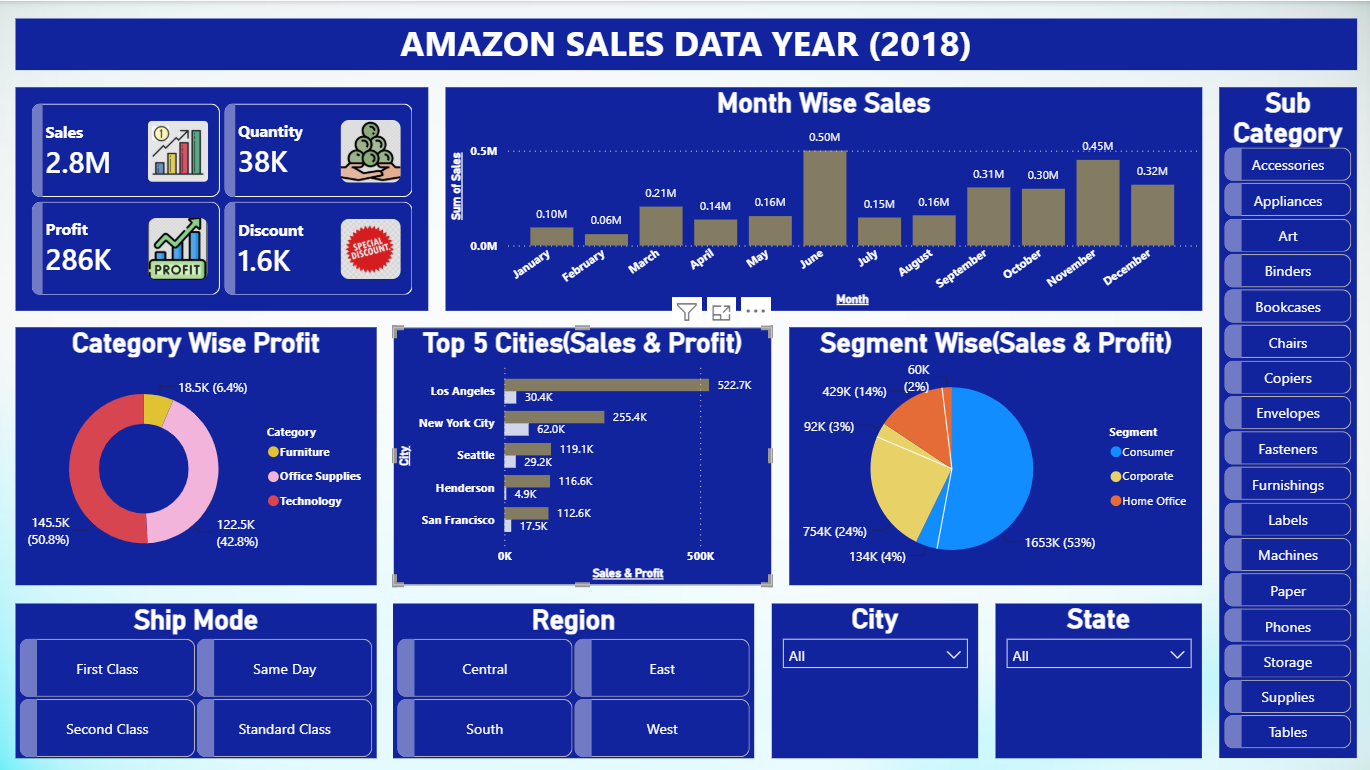

What the dashboard file says about the page in this screenshot:
{"tool":"powerbi","page":{"name":"Page 1","canvas":[1280,720],"ordinal":0},"visuals":[{"type":"textbox","box":[16,16,1248,48],"z":0},{"type":"cardVisual","fields":{"Data":["Sum(Orders.Sales)","Sum(Orders.Quantity)","Sum(Orders.Profit)","Sum(Orders.Discount)"]},"box":[16,80,384,208],"z":1000},{"type":"columnChart","title":" Month Wise Sales","fields":{"Category":["Orders.Order Date.Variation.Date Hierarchy.Month"],"Y":["Sum(Orders.Sales)"]},"box":[416,80,704,208],"z":2000},{"type":"donutChart","title":" Category Wise Profit","fields":{"Series":["Orders.Category"],"Y":["Sum(Orders.Profit)"]},"box":[16,304,336,240],"z":3000},{"type":"clusteredBarChart","title":" Top 5 Cities(Sales & Profit)","fields":{"Category":["Orders.City"],"Y":["Sum(Orders.Sales)","Sum(Orders.Profit)"]},"box":[368,304,352,240],"z":4000},{"type":"pieChart","title":" Segment Wise(Sales & Profit)","fields":{"Y":["Sum(Orders.Sales)","Sum(Orders.Profit)"],"Category":["Orders.Segment"]},"box":[736,304,384,240],"z":5000},{"type":"advancedSlicerVisual","title":"Sub Category","fields":{"Values":["Orders.Sub-Category"]},"box":[1136,80,128,624],"z":6000},{"type":"advancedSlicerVisual","fields":{"Values":["Orders.Ship Mode"]},"box":[16,560,336,144],"z":7000},{"type":"slicer","title":"City","fields":{"Values":["Orders.City"]},"box":[720,560,192,144],"z":8000},{"type":"advancedSlicerVisual","fields":{"Values":["Orders.Region"]},"box":[368,560,336,144],"z":9000},{"type":"slicer","title":"State","fields":{"Values":["Orders.State"]},"box":[928,560,192,144],"z":10000}]}

Visuals, with their boxes in screenshot pixels (x1, y1, x2, y2), scaled from the page's 1280x720 canvas onto the 1370x770 screenshot:
textbox: box(17, 17, 1353, 68)
cardVisual - Sum(Orders.Sales) x Sum(Orders.Quantity): box(17, 86, 428, 308)
" Month Wise Sales" columnChart: box(445, 86, 1199, 308)
" Category Wise Profit" donutChart: box(17, 325, 377, 582)
" Top 5 Cities(Sales & Profit)" clusteredBarChart: box(394, 325, 771, 582)
" Segment Wise(Sales & Profit)" pieChart: box(788, 325, 1199, 582)
"Sub Category" advancedSlicerVisual: box(1216, 86, 1353, 753)
advancedSlicerVisual - Orders.Ship Mode: box(17, 599, 377, 753)
"City" slicer: box(771, 599, 976, 753)
advancedSlicerVisual - Orders.Region: box(394, 599, 754, 753)
"State" slicer: box(993, 599, 1199, 753)
